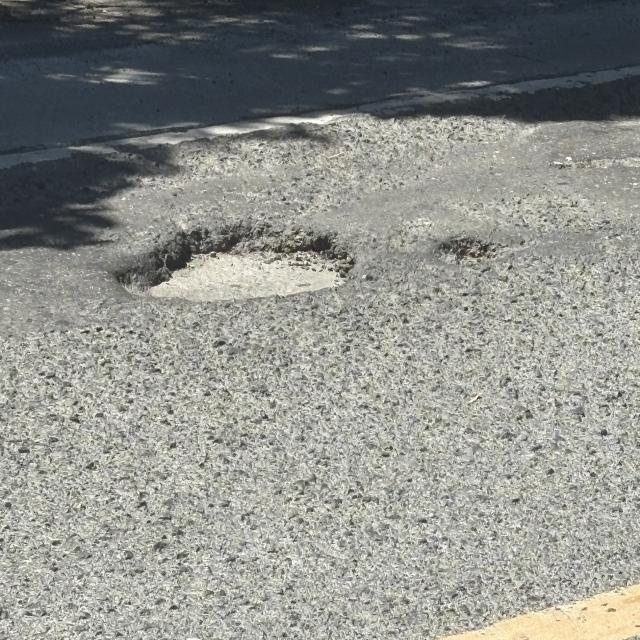pothole: (103, 188, 380, 336), (436, 208, 514, 278)
